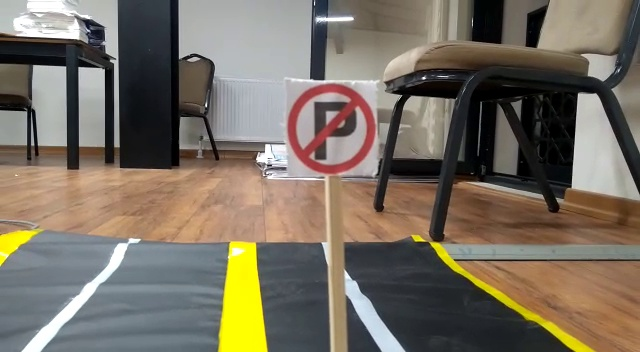park_yapilmaz: (284, 77, 379, 178)
